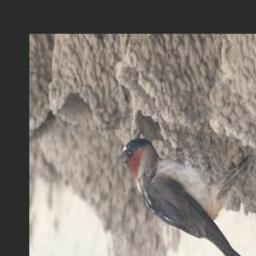Swallow: (115, 136, 254, 256)
